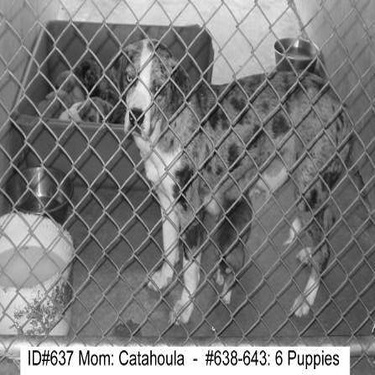dog: (107, 37, 354, 331), (211, 192, 249, 308), (63, 53, 103, 105), (61, 99, 116, 127), (41, 91, 76, 123), (97, 62, 125, 100), (51, 71, 84, 100)
